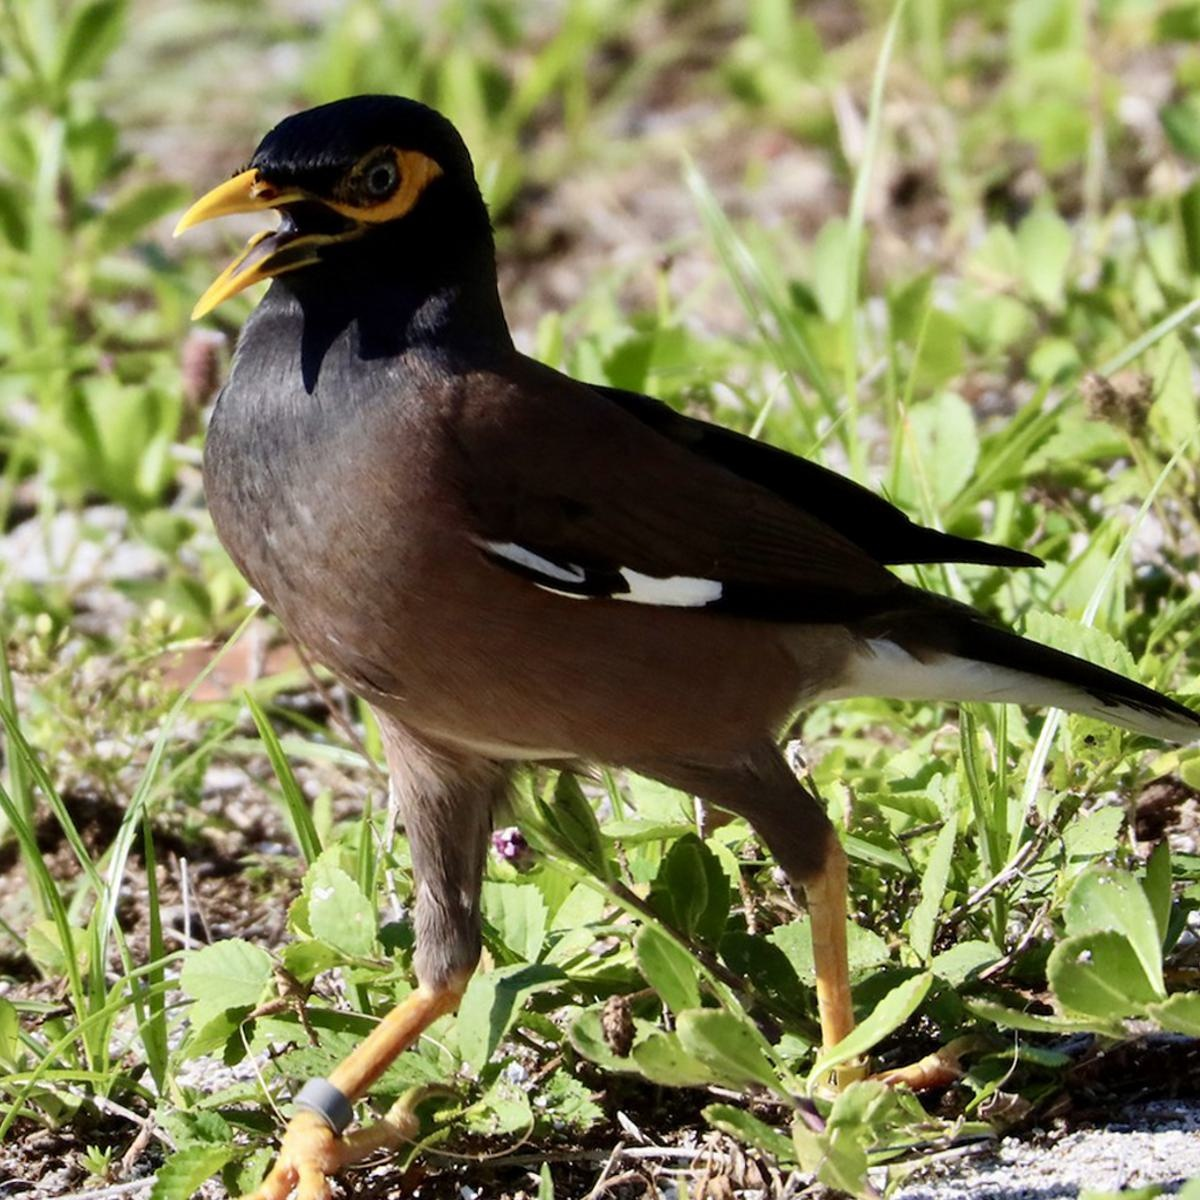myna: (210, 105, 905, 949)
